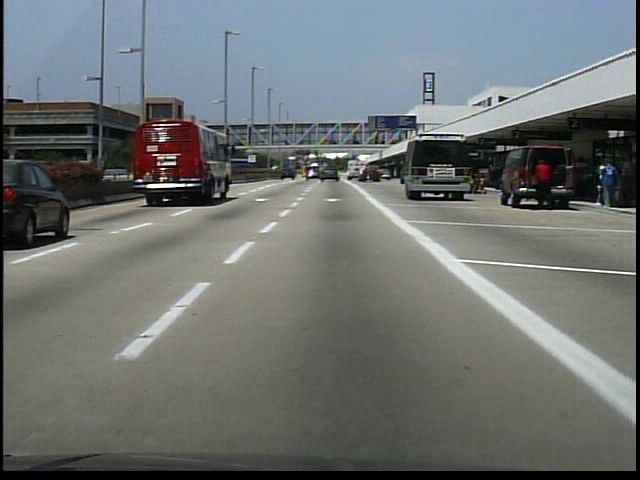person: (535, 154, 556, 212)
